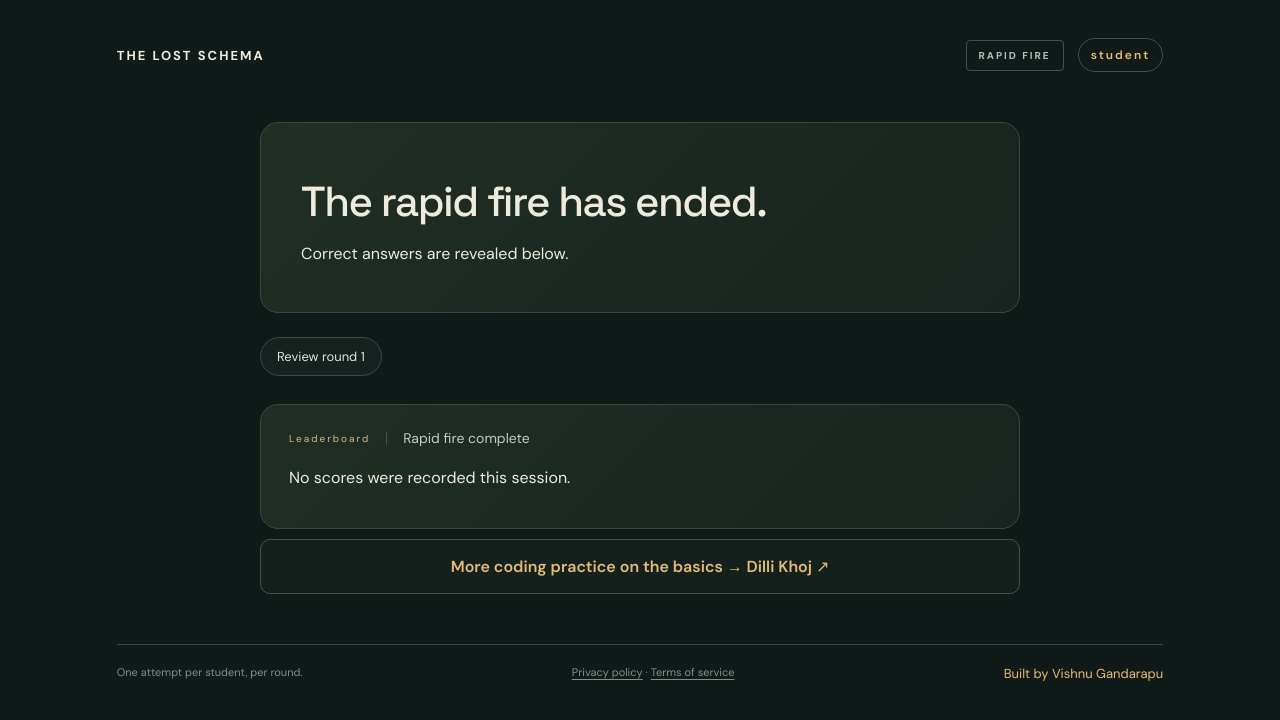
Test: student question lifecycle › recovers full debrief content on review after the session closes
This screenshot has width=1280, height=720.
Click the button "Review round 1" at (321, 357), box [260,337,382,376]
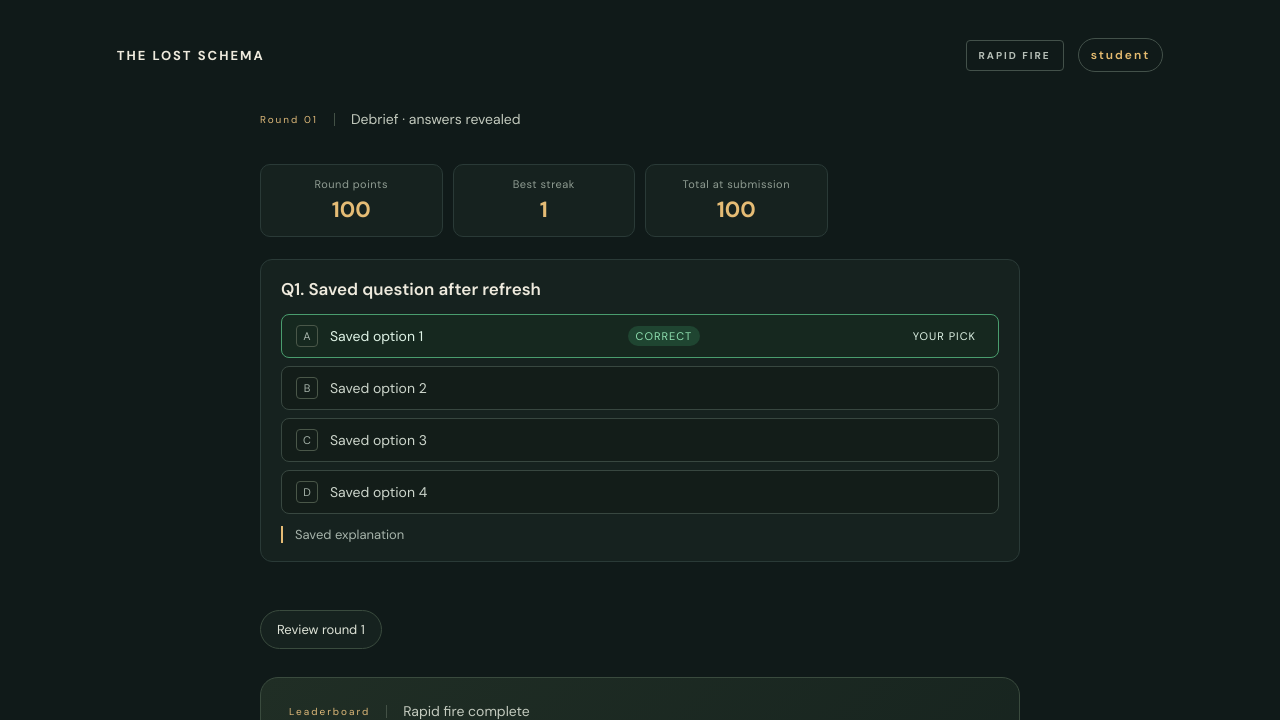
Check: the text "Q1. Saved question after refresh" is shown, box [281,278,541,300]
Check: the text "Saved explanation" is shown, box [281,526,999,543]
Check: the text "Saved option 1" is shown, box [330,327,423,345]
